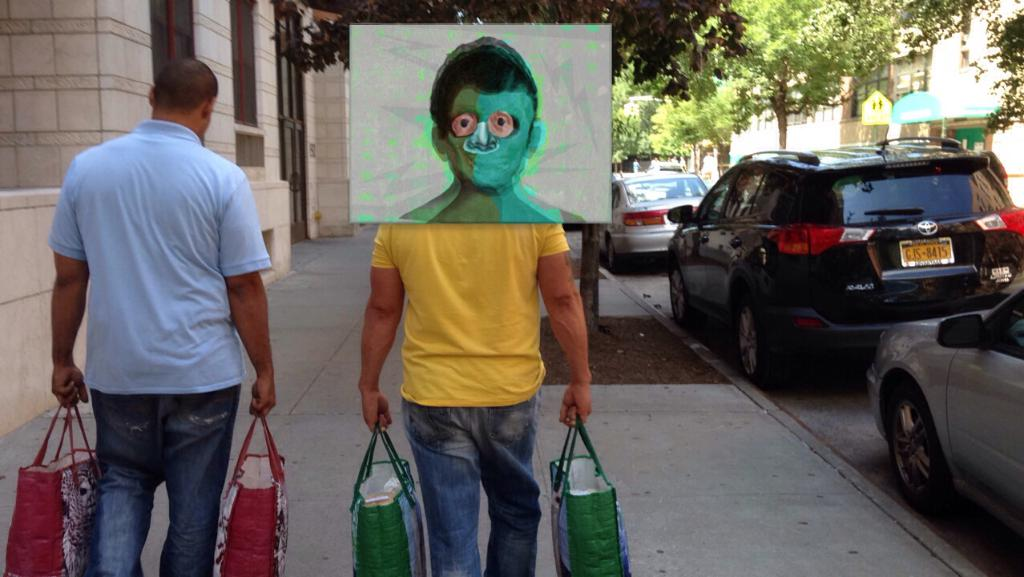Tree: (265, 0, 748, 351), (607, 0, 963, 182), (944, 0, 1023, 129)
